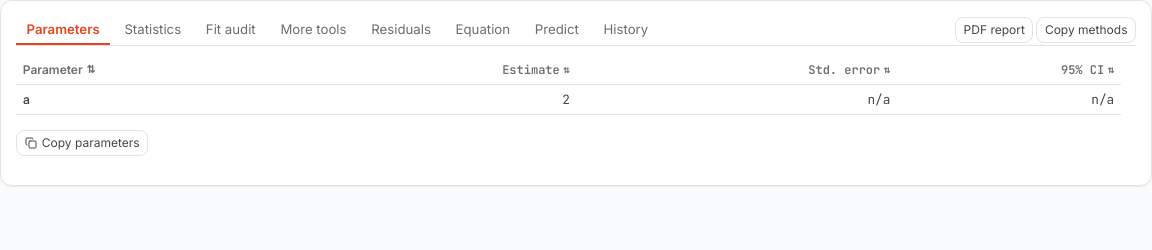
Test: Copy methods › shows why the methods text could not be fetched
What coordinates should you click on to do the following:
click the button "Copy methods"
I would click on:
 (1086, 30)
Its box is [1036,17,1136,43].
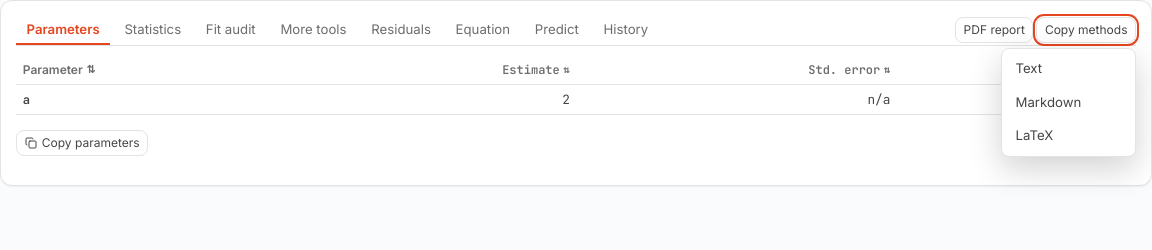
What coordinates should you click on to do the following:
click the button "Text"
I would click on:
 (1068, 69)
Its box is [1006,53,1130,85].
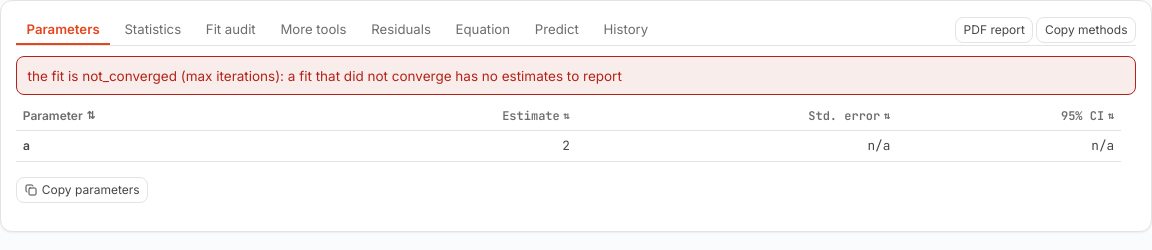
expect the message shows "the fit is not_converged (max iterations): a fit that did not converge has no estimates to report": met, box [28,68,622,84]
